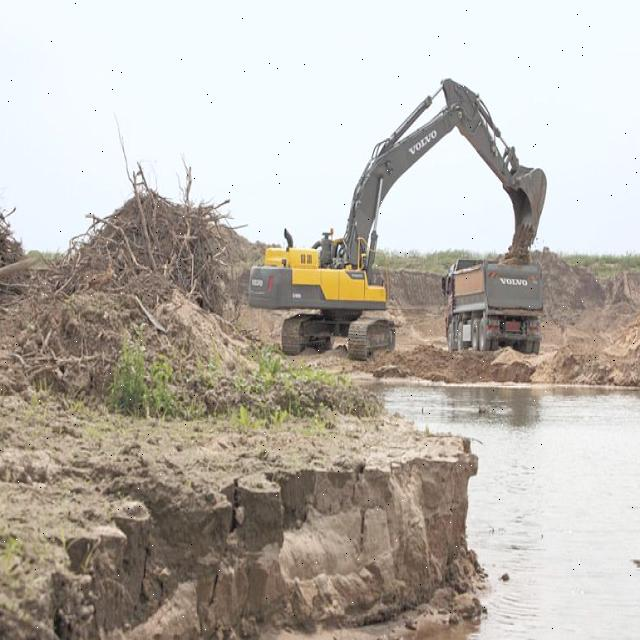Excavator: (250, 75, 549, 360)
